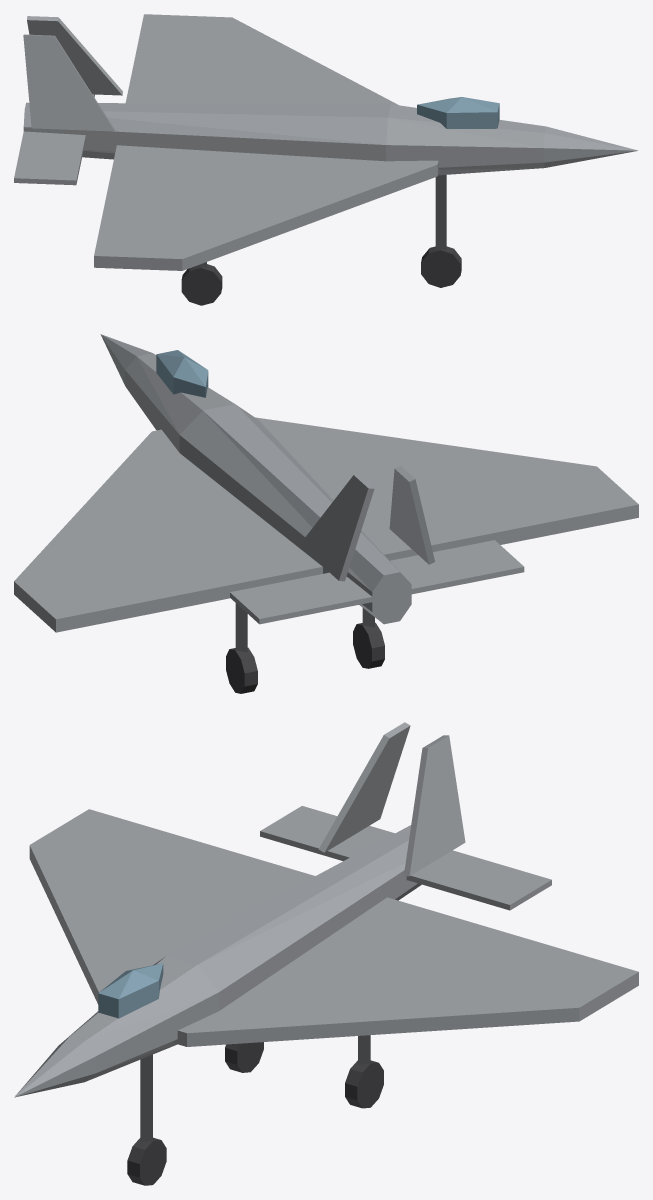
File: jet-fighter.glb
The picture shows the model from 3 angles, top to bottom: view 1: azimuth 30°, elevation 25°; view 2: azimuth 150°, elevation 25°; view 3: azimuth 270°, elevation 25°; orthographic projection. The views are drawn at different scales.
Parts seen in each view (by area): view 1: LOD0; view 2: LOD0; view 3: LOD0.
Boxes of the visible parts, x1,y1,x2,y2 form: LOD0: (14,14,637,305); LOD0: (14,334,638,693); LOD0: (14,722,638,1185).
Size of what is drawn, in the model's own units: 1.13 by 0.5161 by 1.02.
